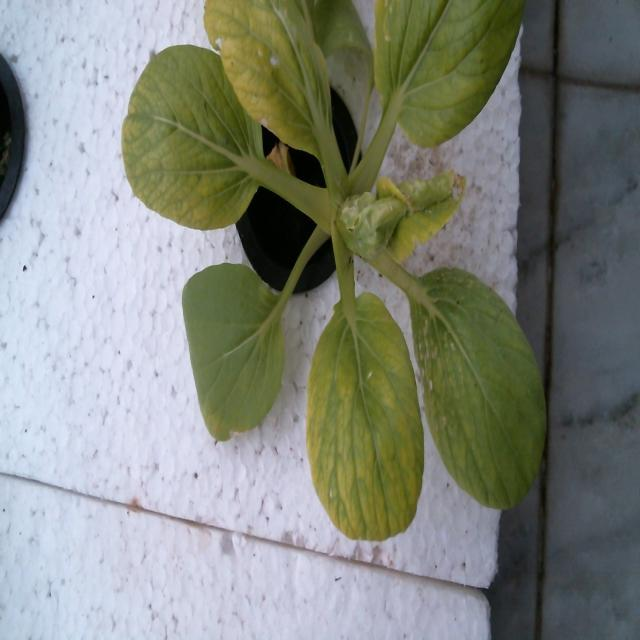pakcoy_tidak_sehat: (123, 3, 557, 556)
